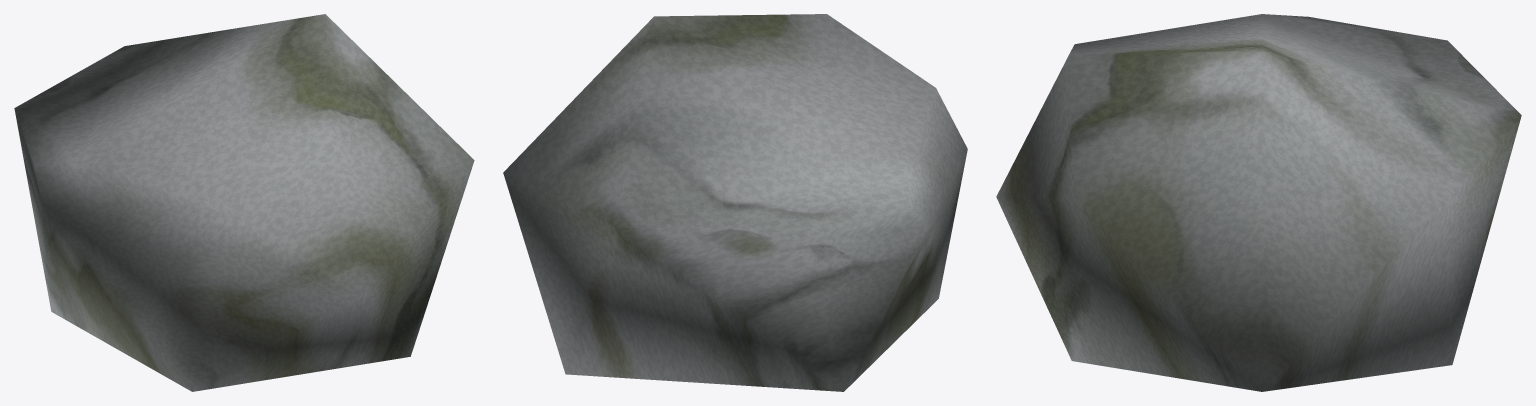
File: Rock_small04.fbx
The picture shows the model from 3 angles, left to right: view 1: azimuth 30°, elevation 25°; view 2: azimuth 150°, elevation 25°; view 3: azimuth 270°, elevation 25°; orthographic projection. The views are drawn at different scales.
Parts seen in each view (by area): view 1: Rock_small04; view 2: Rock_small04; view 3: Rock_small04.
Boxes of the visible parts, x1,y1,x2,y2 form: Rock_small04: (14,14,474,391); Rock_small04: (503,14,967,391); Rock_small04: (996,14,1521,391).
Bounding box in the file's own units: 0.7795 × 0.5393 × 0.8193.
Materials: 1 (1 with a texture image).
